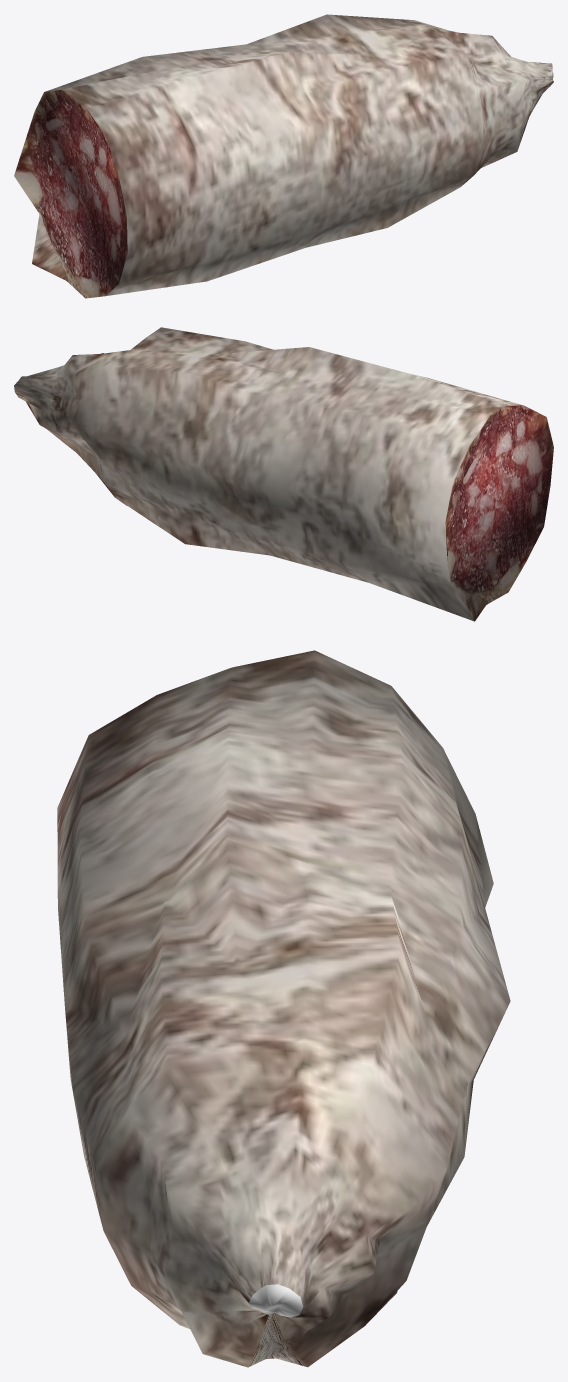
The model's file is SM_Saucisson_02.fbx.
The picture shows the model from 3 angles, top to bottom: view 1: azimuth 30°, elevation 25°; view 2: azimuth 150°, elevation 25°; view 3: azimuth 270°, elevation 25°; orthographic projection. The views are drawn at different scales.
Visible parts, largest first — view 1: Cylinder.001; view 2: Cylinder.001; view 3: Cylinder.001.
Part boxes in pixels (left/top/right/bottom): Cylinder.001: left=14, top=14, right=553, bottom=298; Cylinder.001: left=14, top=327, right=553, bottom=621; Cylinder.001: left=57, top=650, right=510, bottom=1367.
Size of the model in its own units: 181 by 71.84 by 73.09.
